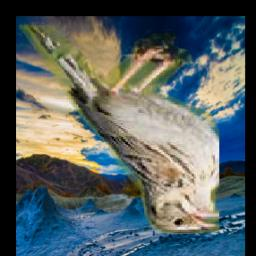Sparrow: (17, 20, 218, 234)
